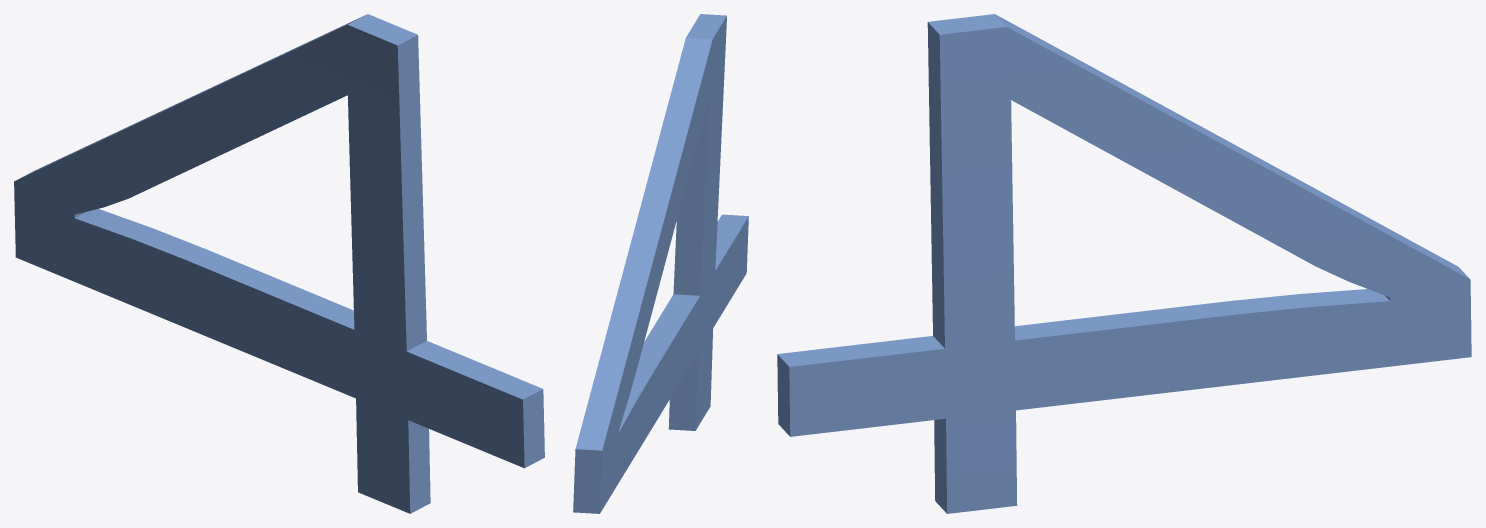
Rendered from New_Number_4.gltf.
The picture shows the model from 3 angles, left to right: view 1: azimuth 30°, elevation 25°; view 2: azimuth 150°, elevation 25°; view 3: azimuth 270°, elevation 25°; orthographic projection. The views are drawn at different scales.
Parts seen in each view (by area): view 1: Part 589; view 2: Part 589; view 3: Part 589.
Part boxes in pixels (x1,y1,x2,y2): Part 589: (14,14,544,513); Part 589: (573,14,748,513); Part 589: (777,14,1471,513).
Bounding box in the file's own units: 0.00175 × 0.00408 × 0.00545.
